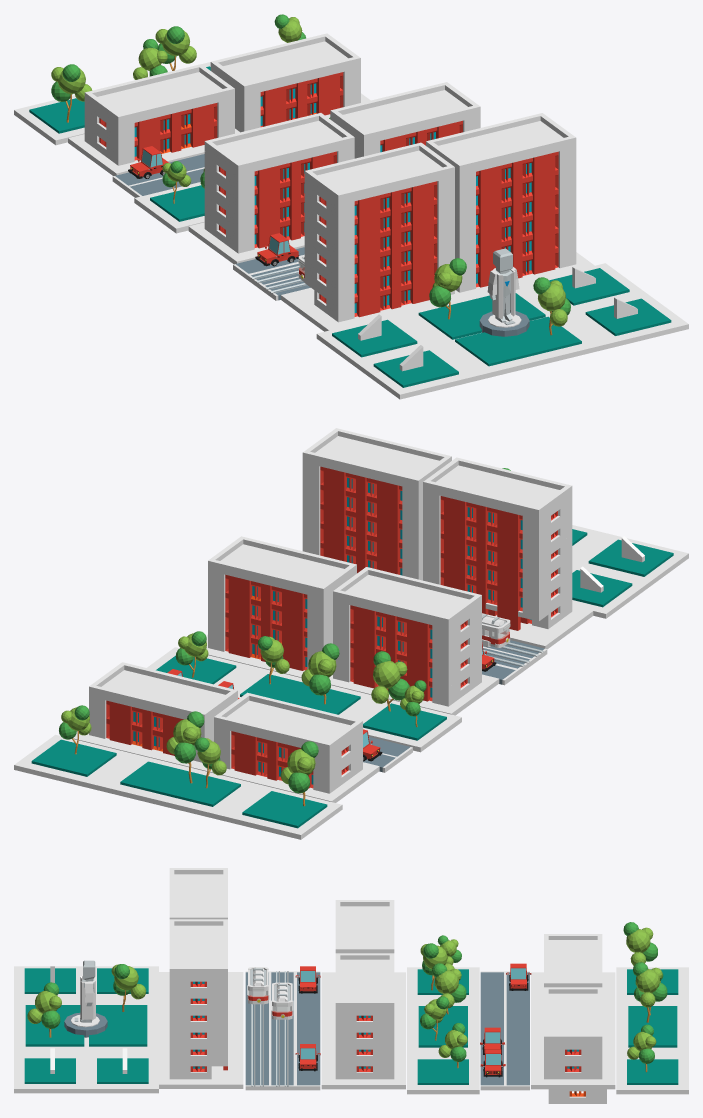
The model's file is edificio.glb.
The picture shows the model from 3 angles, top to bottom: view 1: azimuth 30°, elevation 25°; view 2: azimuth 150°, elevation 25°; view 3: azimuth 270°, elevation 25°; orthographic projection. The views are drawn at different scales.
Parts seen in each view (by area): view 1: group421747437, group1271622721, group1588873527, group890989404, group1648131601, group669033653, group1396617582, group1521415191, group1049382511, group1432673303, group1816888811, group1361332441 (+16 smaller); view 2: group421747437, group1271622721, group1588873527, group1361332441, group1648131601, group669033653, group1816888811, group1521415191, group890989404, group1522812509, group1396617582, group1428909106 (+17 smaller); view 3: group1271622721, group1396617582, group890989404, group1361332441, group1816888811, group669033653, group1087146255, group1432673303, group947198294, group1522812509, group1521415191, group1588873527 (+28 smaller).
Part boxes in pixels (x1,y1,x2,y2): group421747437: (304, 142, 454, 322); group1271622721: (426, 113, 576, 292); group1588873527: (204, 113, 354, 253); group890989404: (358, 293, 688, 399); group1648131601: (84, 64, 234, 165); group669033653: (210, 33, 360, 132); group1396617582: (316, 263, 646, 368); group1521415191: (330, 82, 480, 144); group1049382511: (479, 248, 529, 336); group1432673303: (281, 252, 594, 331); group1816888811: (134, 182, 204, 233); group1361332441: (14, 62, 210, 145); group421747437: (423, 457, 572, 630); group1271622721: (302, 428, 451, 580); group1588873527: (333, 567, 481, 706); group1361332441: (14, 734, 342, 839); group1648131601: (214, 692, 362, 793); group669033653: (89, 662, 237, 762); group1816888811: (147, 647, 461, 752); group1521415191: (208, 536, 356, 598); group890989404: (572, 525, 688, 587); group1522812509: (73, 731, 379, 802); group1396617582: (572, 565, 647, 618); group1428909106: (208, 590, 332, 637); group1271622721: (169, 919, 227, 1079); group1396617582: (86, 966, 158, 1093); group890989404: (14, 966, 86, 1093); group1361332441: (616, 967, 688, 1094); group1816888811: (407, 967, 479, 1094); group669033653: (544, 987, 602, 1079); group1087146255: (480, 971, 529, 1090); group1432673303: (159, 972, 243, 1088); group947198294: (321, 972, 405, 1089); group1522812509: (531, 972, 615, 1089); group1521415191: (335, 953, 394, 1011); group1588873527: (335, 900, 394, 953).
Size of the model in its own units: 1.25 by 0.66 by 2.89.
